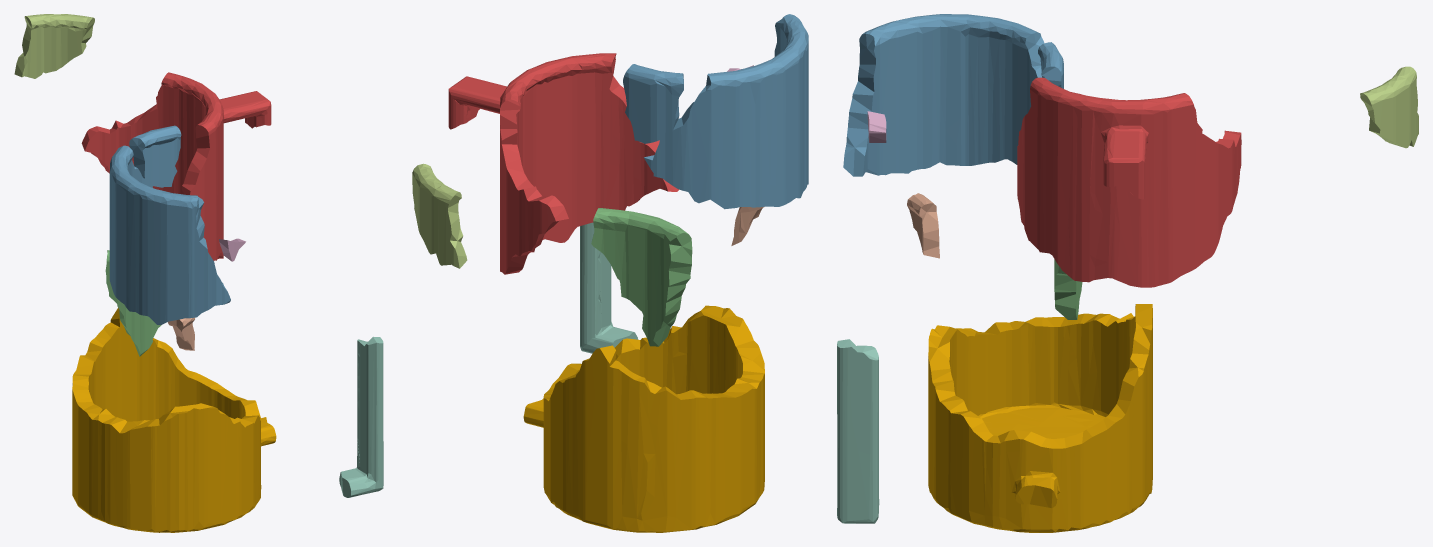
Rendered from fractured_60_8pcs_transformed.glb.
The picture shows the model from 3 angles, left to right: view 1: azimuth 30°, elevation 25°; view 2: azimuth 150°, elevation 25°; view 3: azimuth 270°, elevation 25°; orthographic projection. The views are drawn at different scales.
Parts seen in each view (by area): view 1: piece_0.obj, piece_2.obj, piece_1.obj, piece_4.obj, piece_5.obj, piece_3.obj, piece_7.obj; view 2: piece_0.obj, piece_1.obj, piece_2.obj, piece_3.obj, piece_4.obj, piece_5.obj, piece_7.obj; view 3: piece_0.obj, piece_1.obj, piece_2.obj, piece_4.obj, piece_5.obj, piece_7.obj, piece_3.obj.
Part boxes in pixels (left/top/right/bottom): piece_0.obj: left=72, top=308, right=276, bottom=532; piece_2.obj: left=109, top=125, right=230, bottom=324; piece_1.obj: left=81, top=72, right=271, bottom=260; piece_4.obj: left=339, top=336, right=383, bottom=497; piece_5.obj: left=14, top=14, right=94, bottom=78; piece_3.obj: left=105, top=250, right=161, bottom=356; piece_7.obj: left=168, top=317, right=194, bottom=350; piece_0.obj: left=523, top=305, right=764, bottom=532; piece_1.obj: left=448, top=53, right=678, bottom=274; piece_2.obj: left=623, top=14, right=808, bottom=209; piece_3.obj: left=591, top=208, right=692, bottom=346; piece_4.obj: left=580, top=222, right=638, bottom=353; piece_5.obj: left=412, top=163, right=467, bottom=268; piece_7.obj: left=731, top=206, right=764, bottom=245; piece_0.obj: left=928, top=304, right=1152, bottom=532; piece_1.obj: left=1017, top=77, right=1241, bottom=287; piece_2.obj: left=843, top=14, right=1063, bottom=176; piece_4.obj: left=837, top=339, right=879, bottom=523; piece_5.obj: left=1360, top=66, right=1418, bottom=148; piece_7.obj: left=907, top=193, right=939, bottom=258; piece_3.obj: left=1054, top=259, right=1082, bottom=319.
Bounding box in the file's own units: 0.9993 × 1.6 × 1.97.
